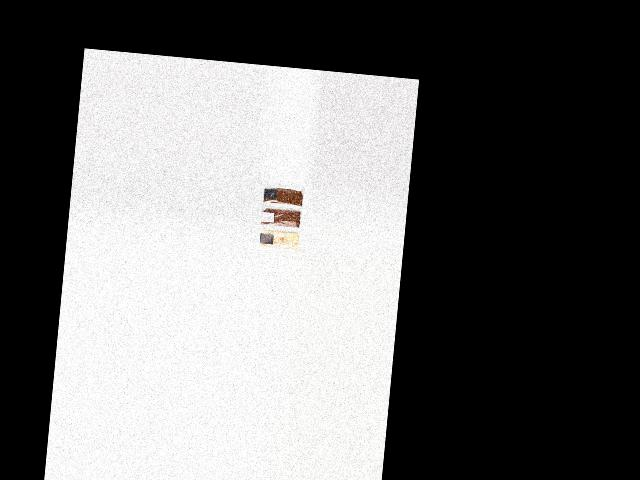chocolate: (263, 180, 308, 208)
